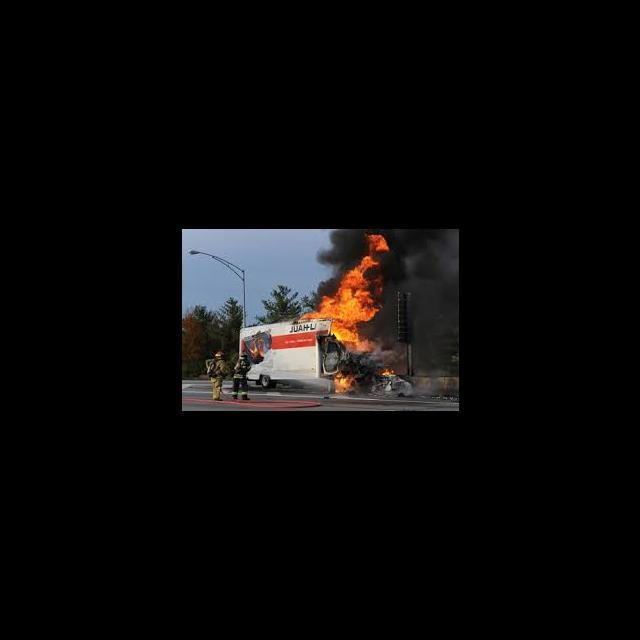Fire: (298, 256, 382, 353), (359, 230, 388, 252), (334, 372, 354, 396), (381, 368, 394, 378)
Smoke: (414, 230, 458, 373), (386, 230, 415, 292)
